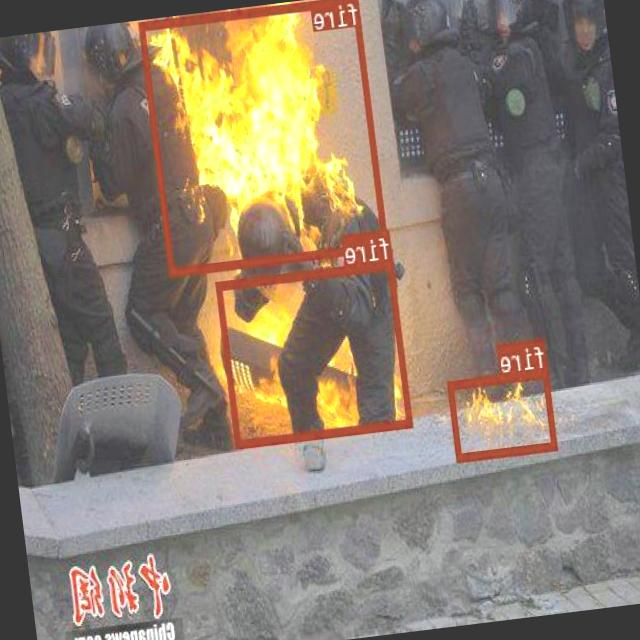fire: (139, 0, 390, 275), (216, 259, 414, 446), (448, 368, 558, 460)
